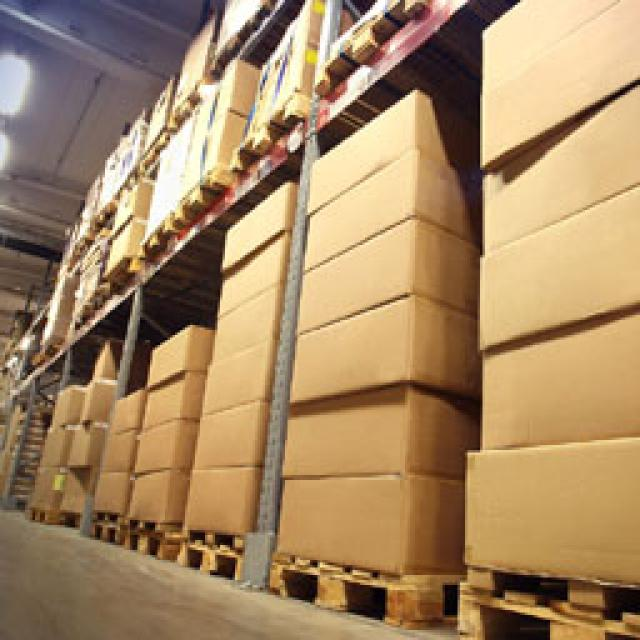box: (476, 307, 640, 445), (466, 454, 640, 570), (295, 220, 479, 322), (178, 468, 265, 540), (151, 320, 213, 378), (143, 425, 197, 467), (52, 388, 84, 425)
